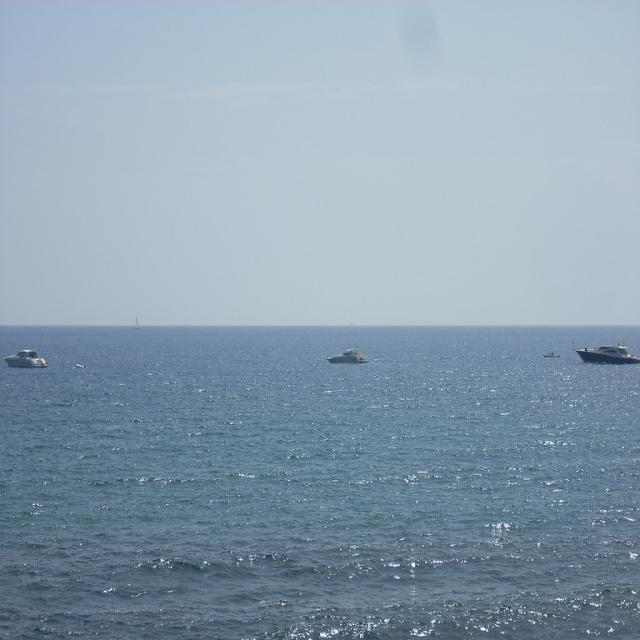houseboat: (576, 335, 638, 365), (1, 341, 49, 372), (324, 344, 370, 366)
